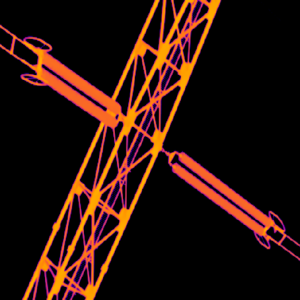insulator: (177, 149, 272, 228), (171, 160, 265, 237), (40, 46, 122, 114), (37, 64, 116, 128)
